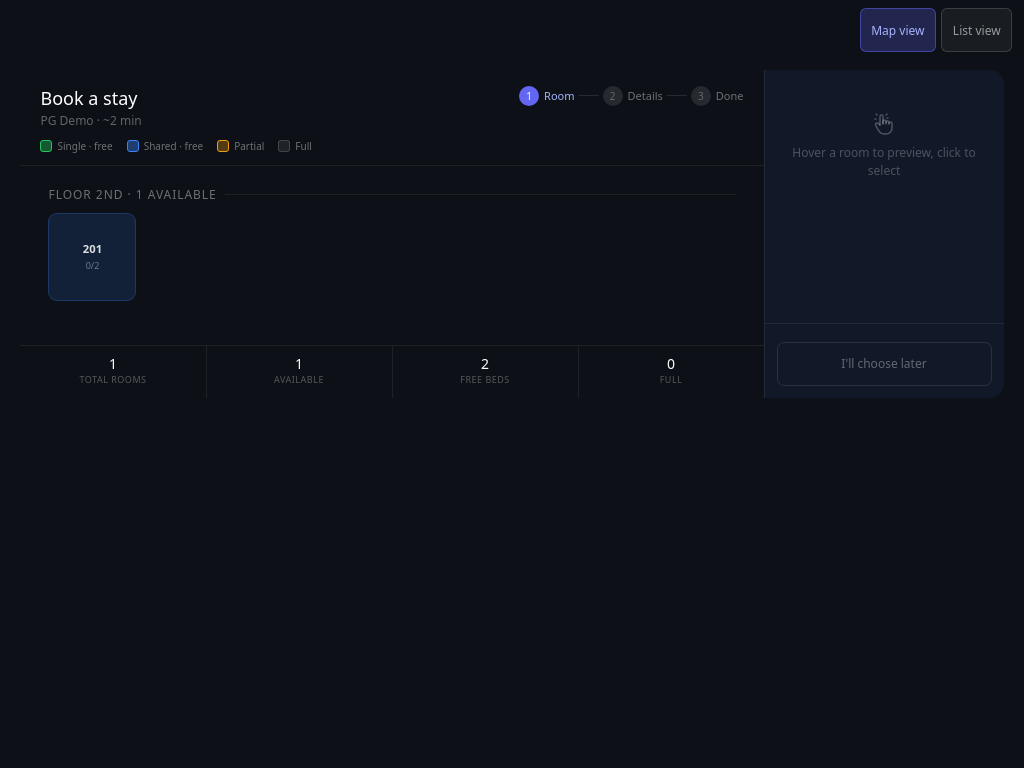
Test: PublicBookingPage › loads seatmap by default and selects room via panel
This screenshot has width=1024, height=768.
Click the button named "Room 201": (92, 257) [48,213,136,301]
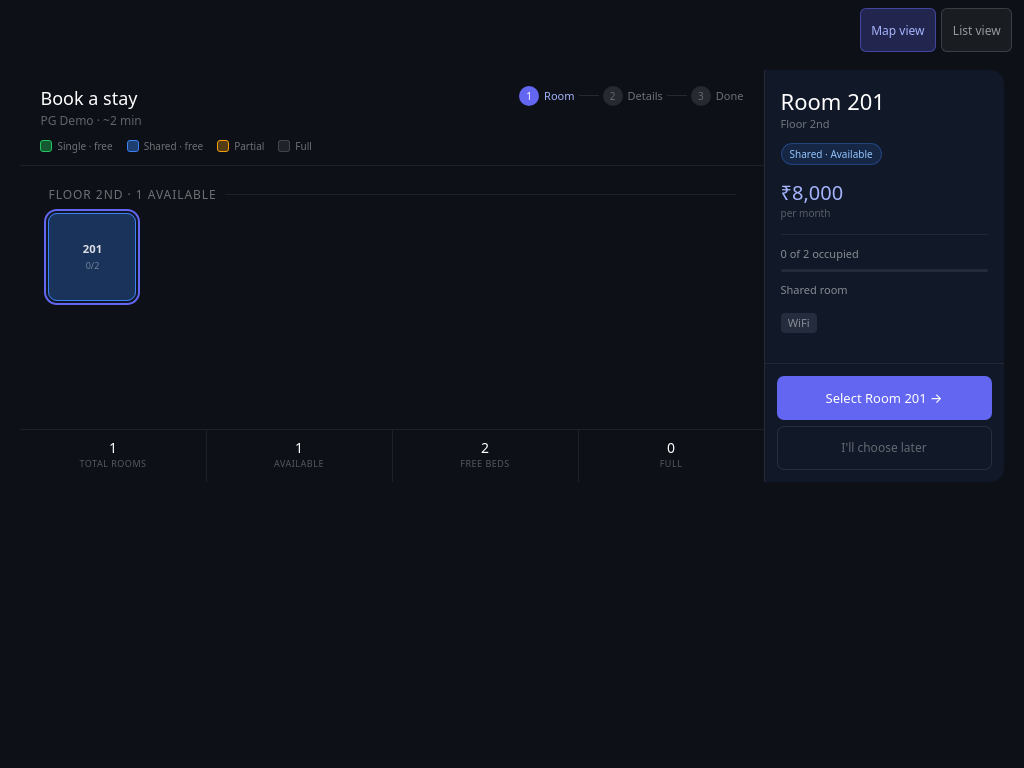
Click the button "Select Room 201 →": (884, 398) [776,376,992,420]
(page scrolled)
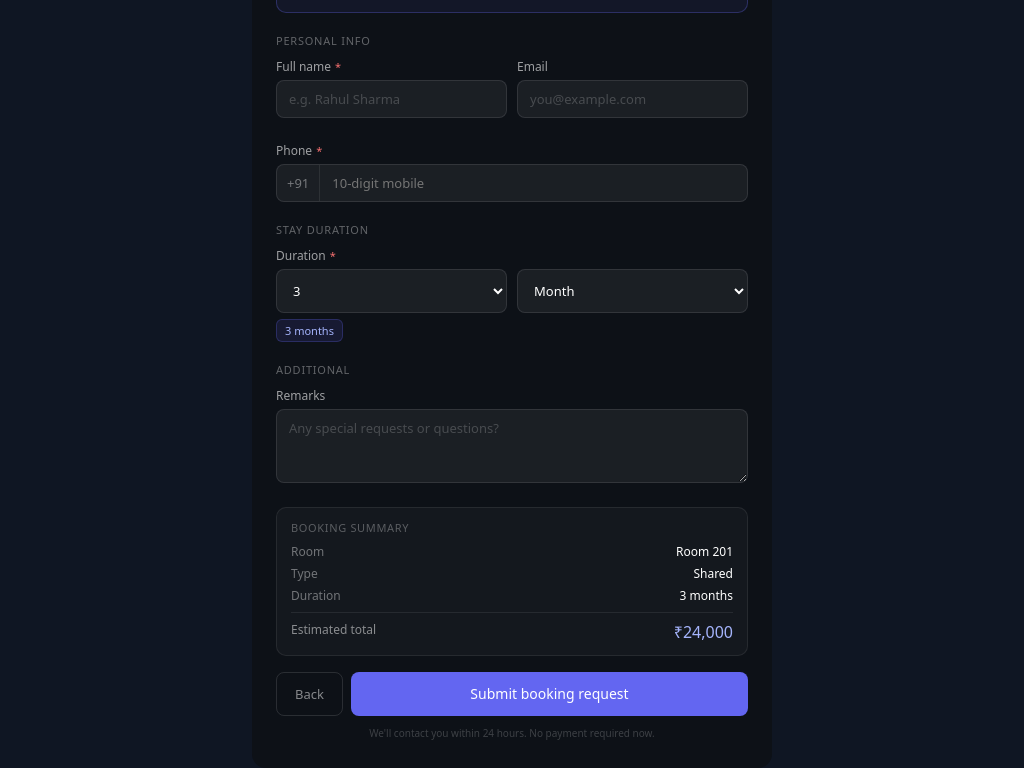
expect the field labelled "Full name *" is shown: met, box [276,80,507,118]
expect the text "Booking summary" is shown: met, box [291,520,409,535]
